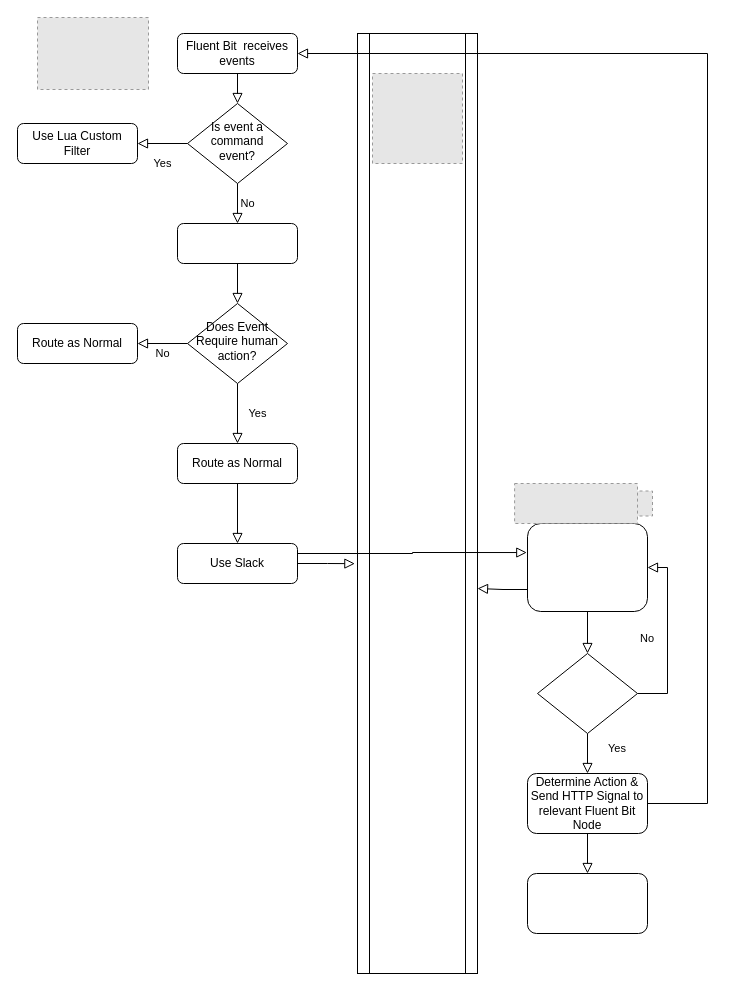
This 735x991 diagram has some shape labels left out. Grey dashed boxes stand in for pictures. The centre of each missing label's shape, as x and y in pixels:
Enrich with Error code: pixel 237 243
Is valid response?: pixel 587 693
Java App (Serverless, standalone or K8s deployment) Watch for response: pixel 587 567
Log audit Event: pixel 587 903
